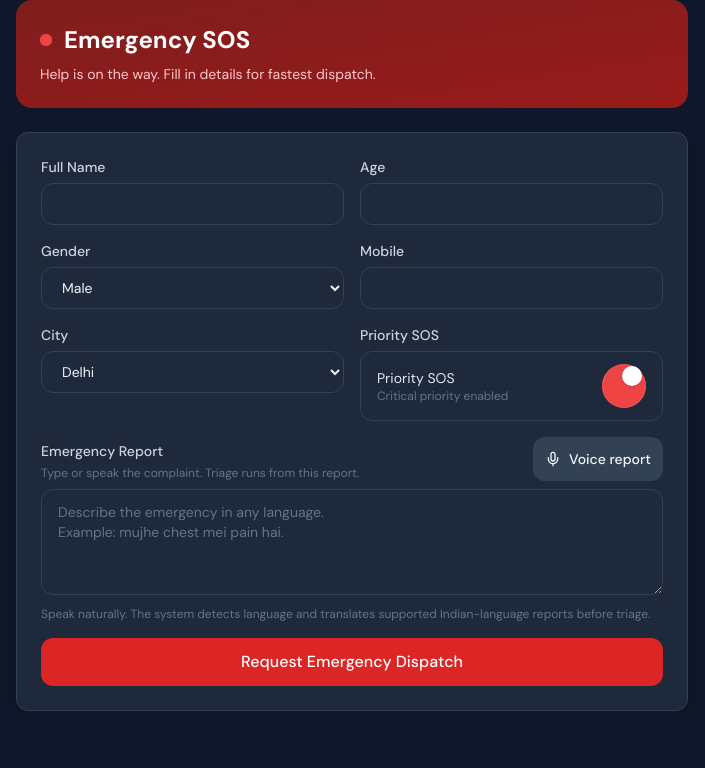
Test: modern routed pages › SOSPortal submits the modern patient intake form
Type "Test User" into the field labelled "Full Name" at (192, 204), box [41,183,344,225]
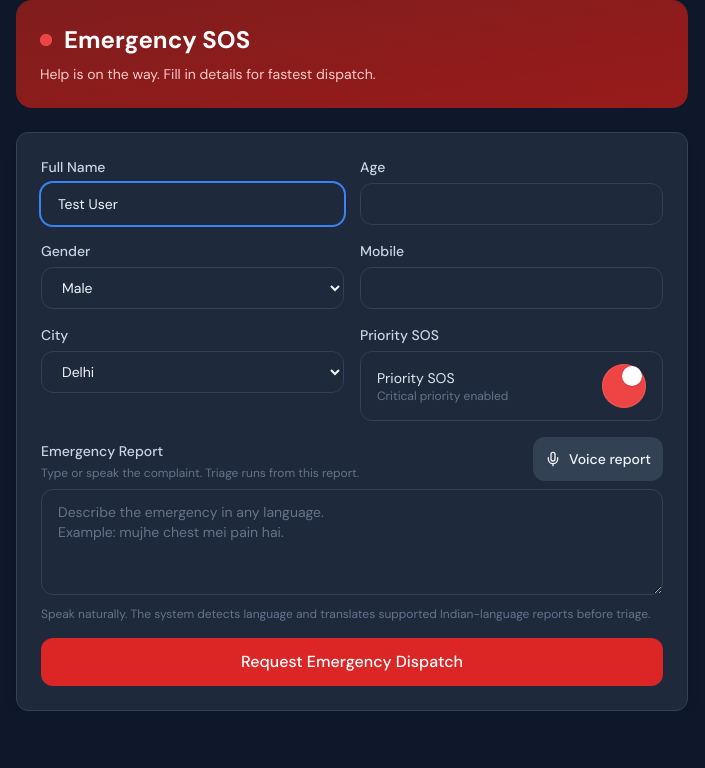
Type "35" into the number field labelled "Age" at (512, 204), box [360,183,663,225]
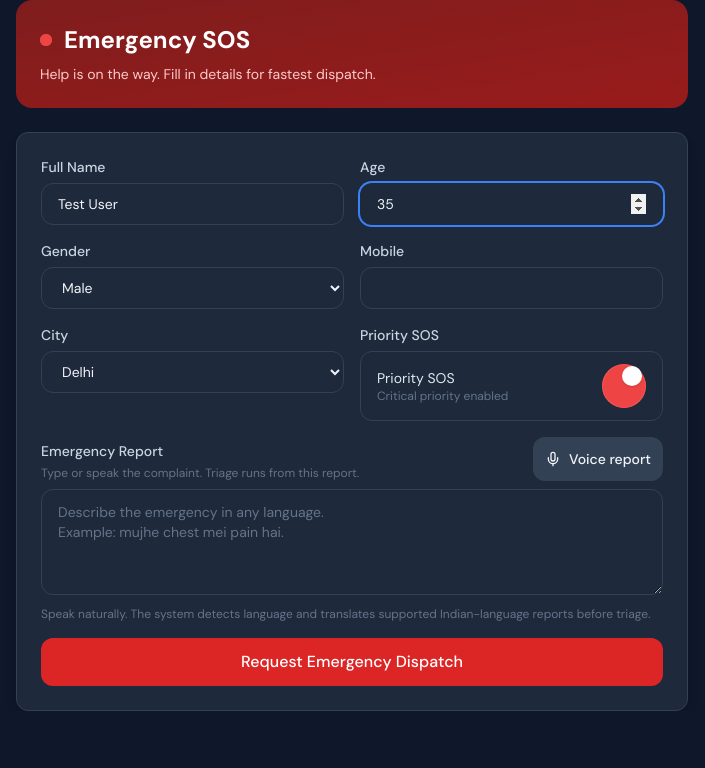
Type "9999999999" into the field labelled "Mobile" at (512, 288), box [360,267,663,309]
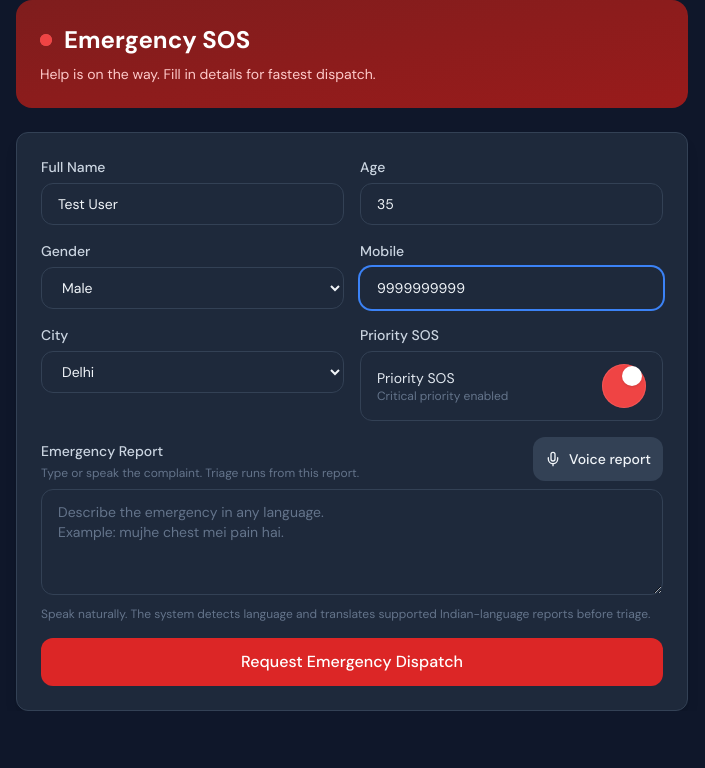
Type "severe chest pain" into the text box labelled "Emergency Report" at (352, 542), box [41,489,663,595]
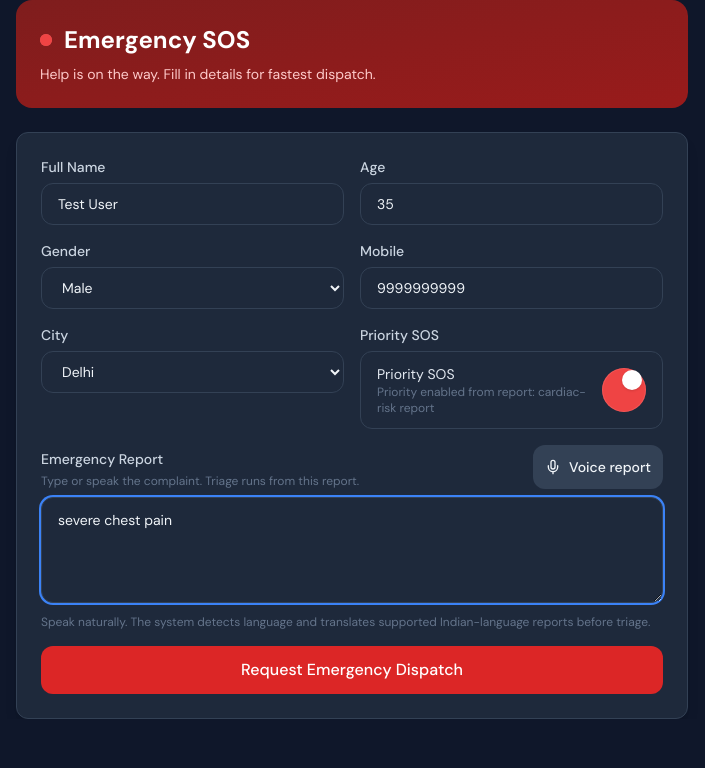
Click the button "Request Emergency Dispatch" at (352, 670), box [41,646,663,694]
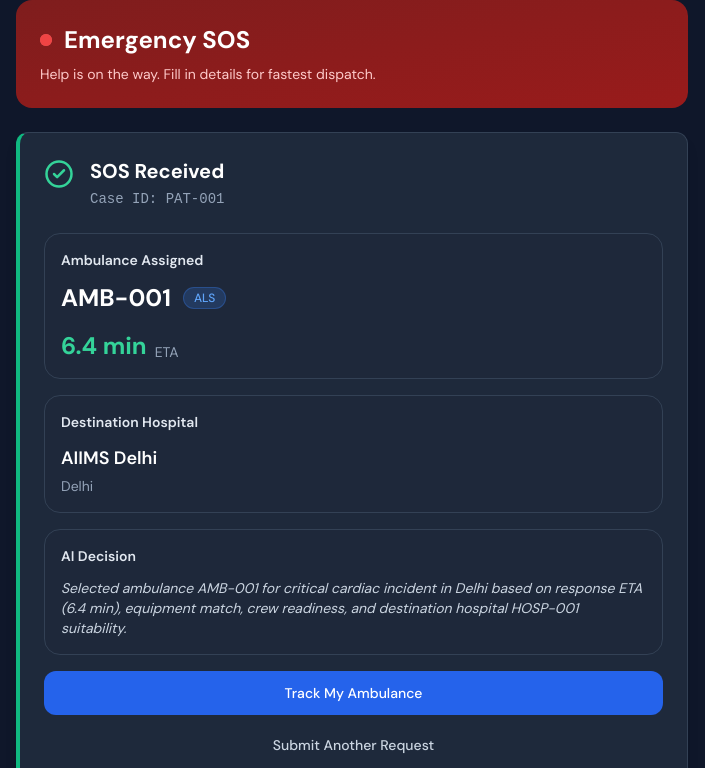
Check: the heading "SOS Received" is shown, box [90,158,224,184]
